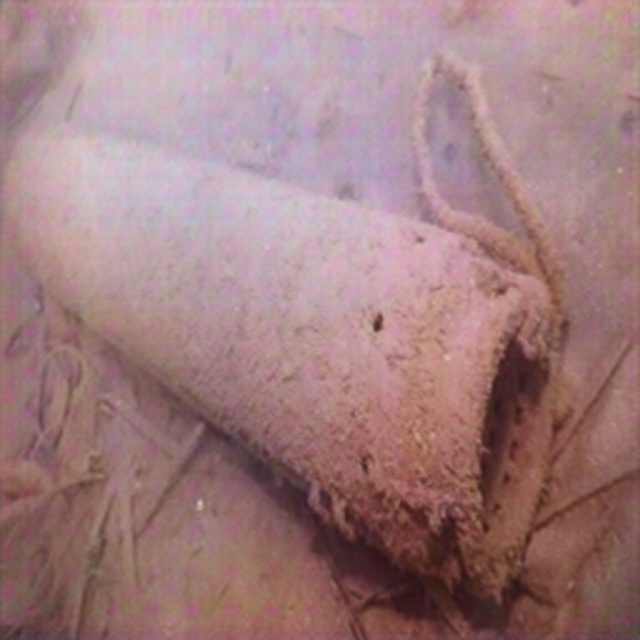mine: (2, 119, 560, 595)
